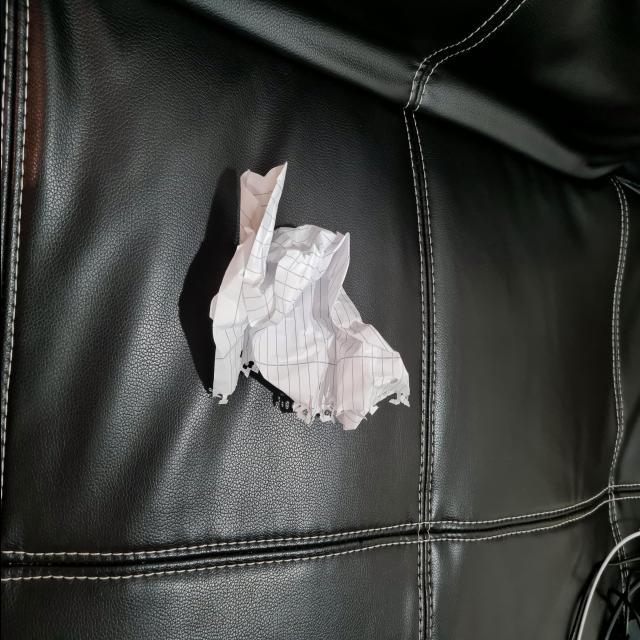Paper: (201, 164, 426, 433)
